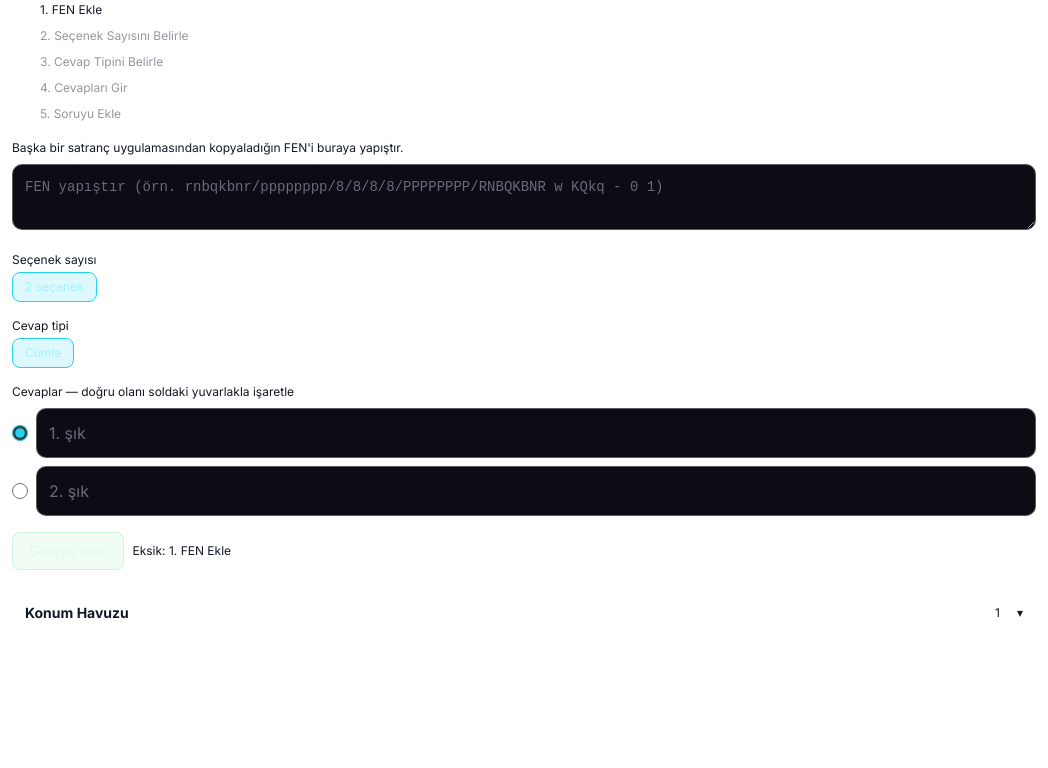
KonumPratigiPoolView — düzenleme (Kazanç Konumu ile AYNI: tıkla-düzenle-sil) › koda tıklayınca düzenleme açılır, alanlar mevcut soruyla dolu gelir
Click the text "Konum Havuzu". click: (77, 612)
box: x1=25 y1=604 x2=129 y2=621
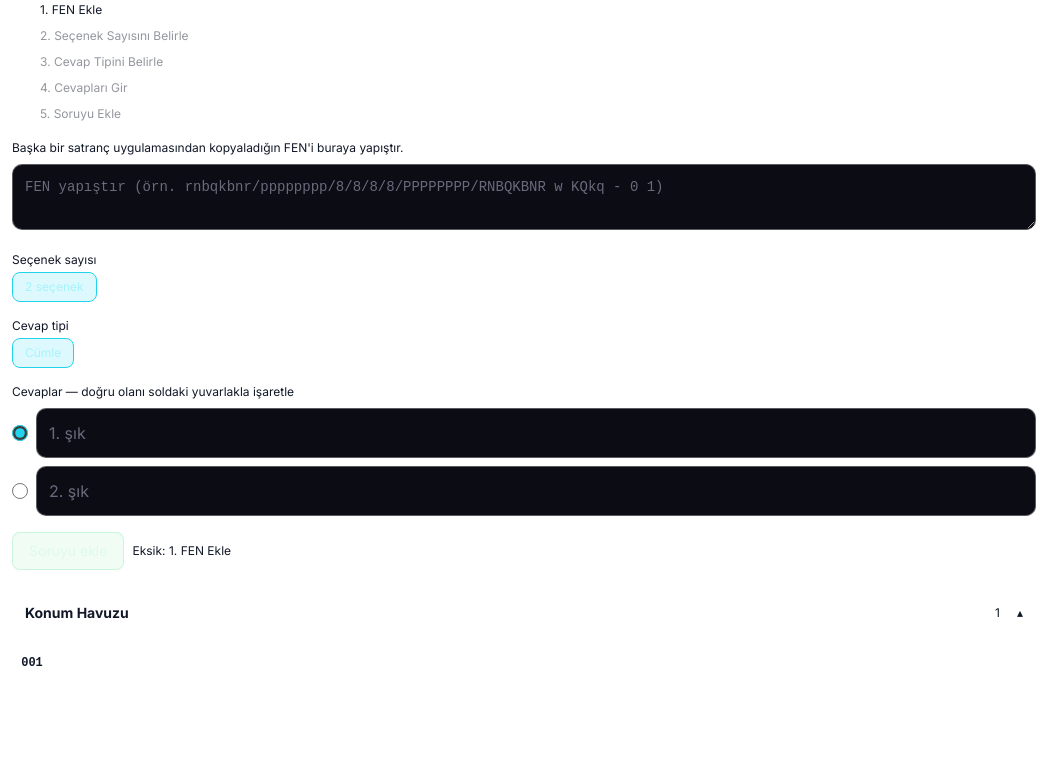
Click the button named "Soru 001". click: (32, 663)
box: x1=12 y1=643 x2=52 y2=683
(page scrolled)
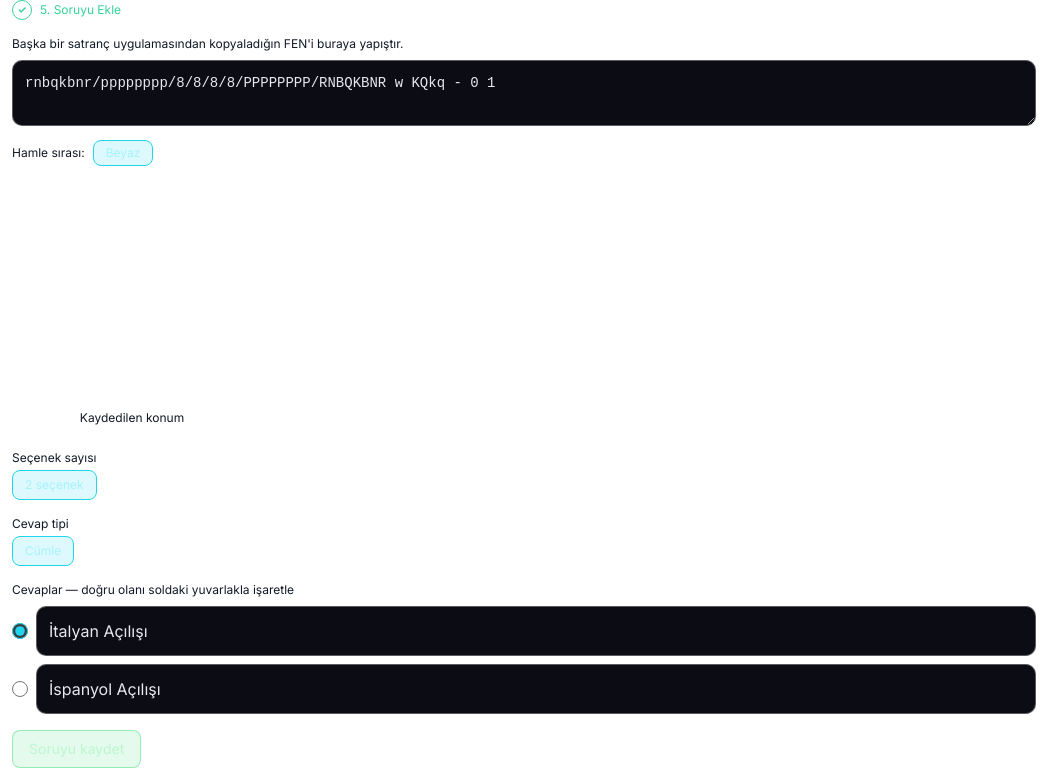
Check: the button "Soruyu kaydet" is shown, box x1=12 y1=730 x2=141 y2=767
Check: the number of fields with placeholder "FEN yapıştır" is 2
